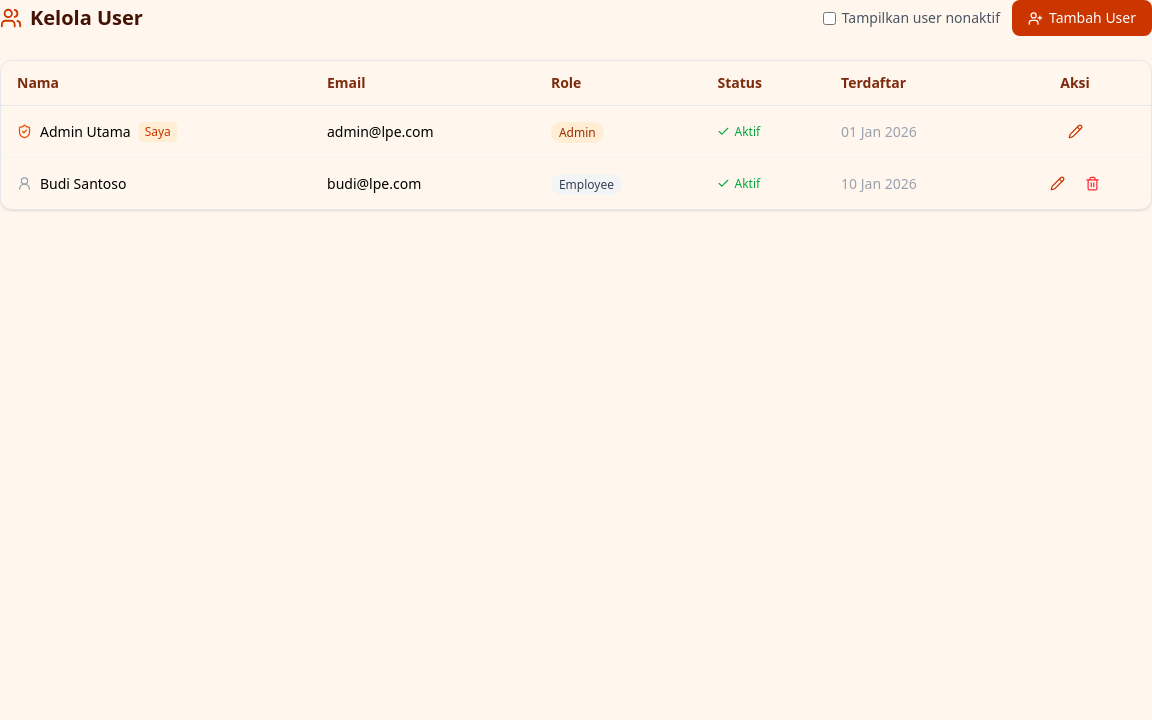
Test: UserManagement Component (components/admin/UserManagement.jsx) › harus membuka modal edit user, mengubah role/nama, dan mengirimkan PATCH
This screenshot has width=1152, height=720.
Check: the text "Budi Santoso" is shown, box [17,174,126,192]
// Klik edit pada baris kedua (Budi)
Click the button titled "Edit" in the row of "Budi Santoso" at (1058, 184), box [1044,170,1071,197]
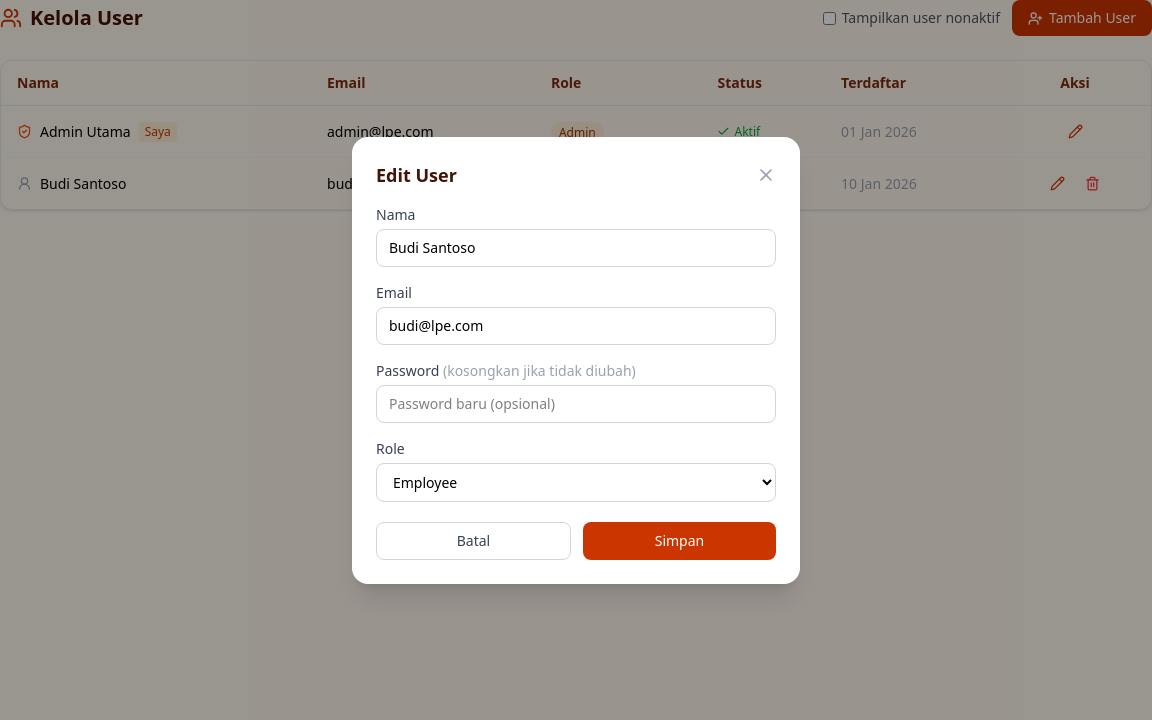
Check: the heading "Edit User" is shown, box [376,160,457,188]
Check: the 1st field with placeholder "Nama lengkap" holds "Budi Santoso"
Replace the text in the 1st field with placeholder "Nama lengkap" with "Budi Santoso S.T." at (576, 248), box [376,228,776,266]
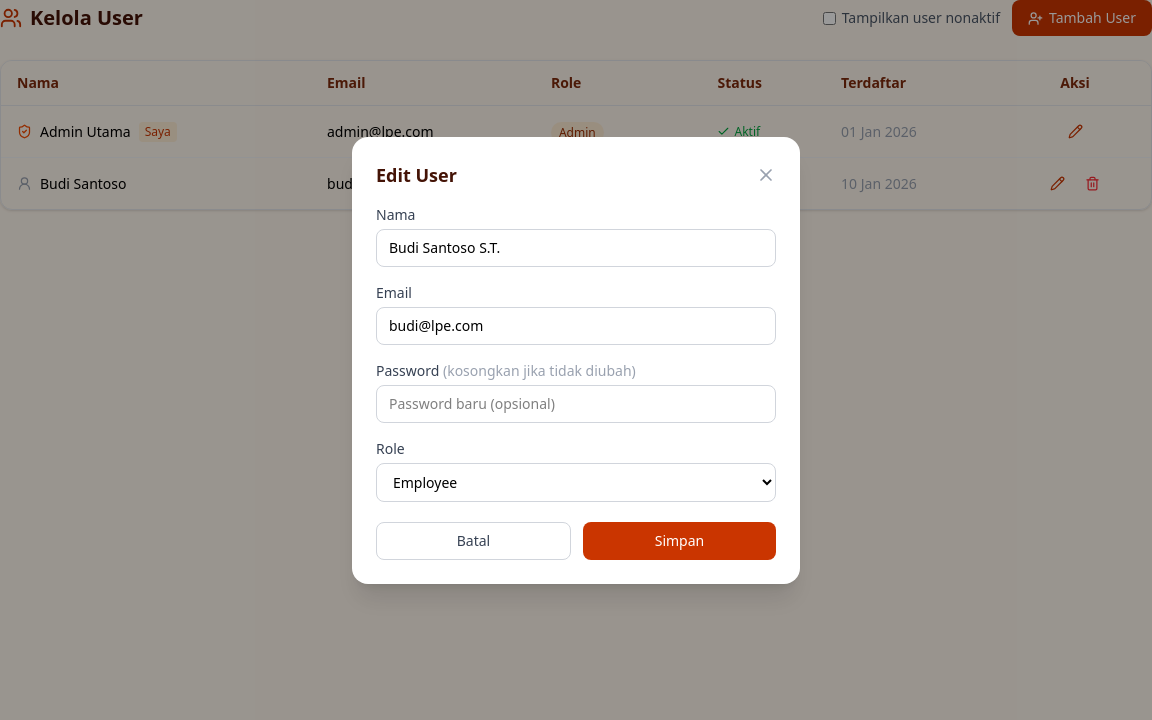
Click the button "Simpan" at (680, 540), box [583,522,776,560]
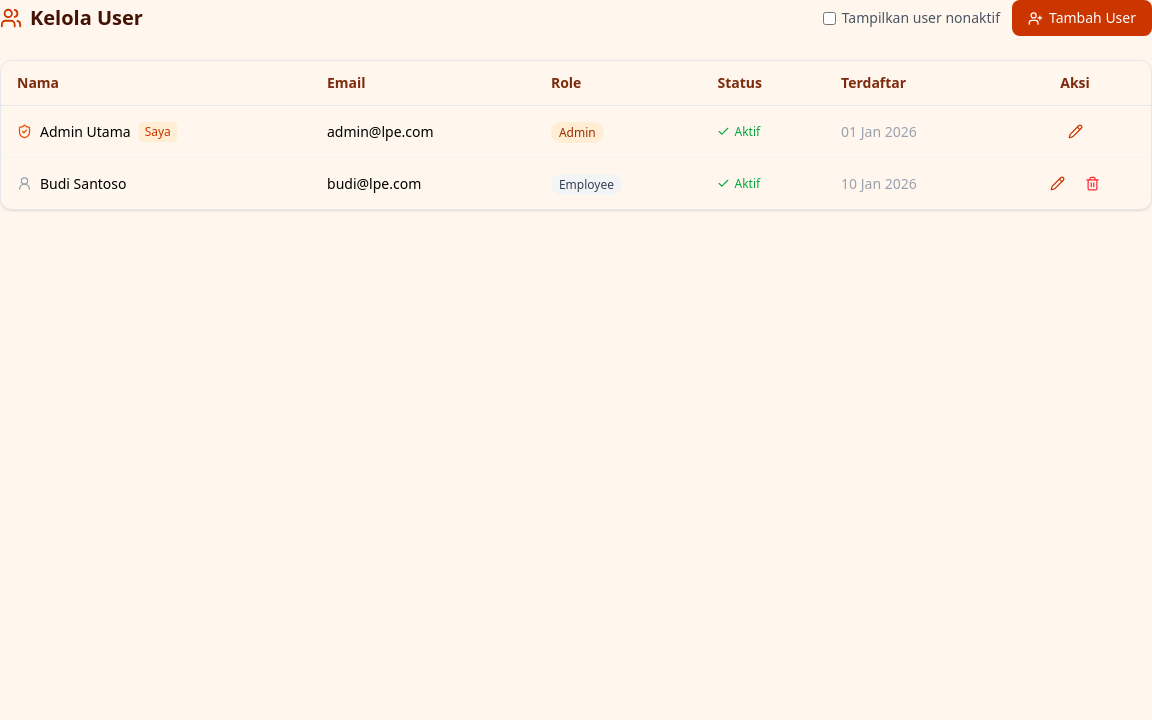
Check: the heading "Edit User" is gone
